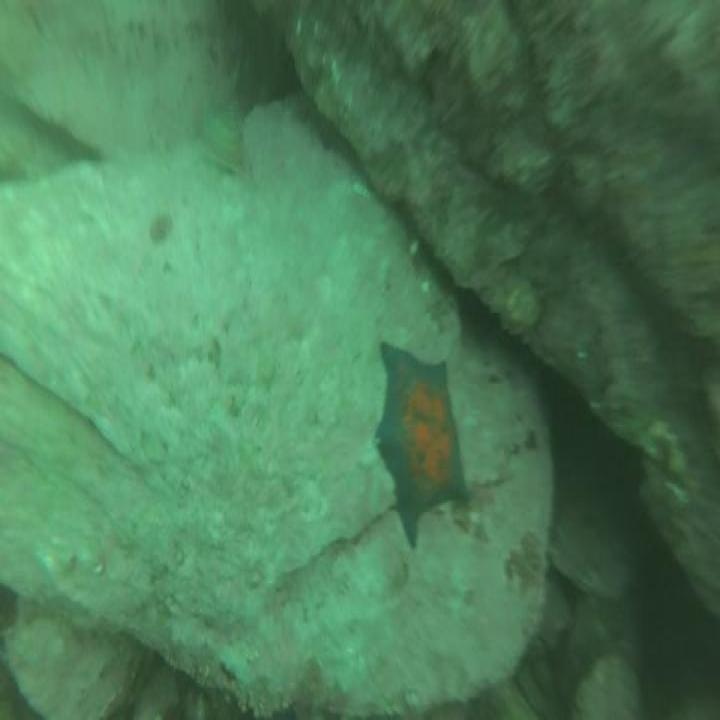starfish: (373, 332, 470, 553)
